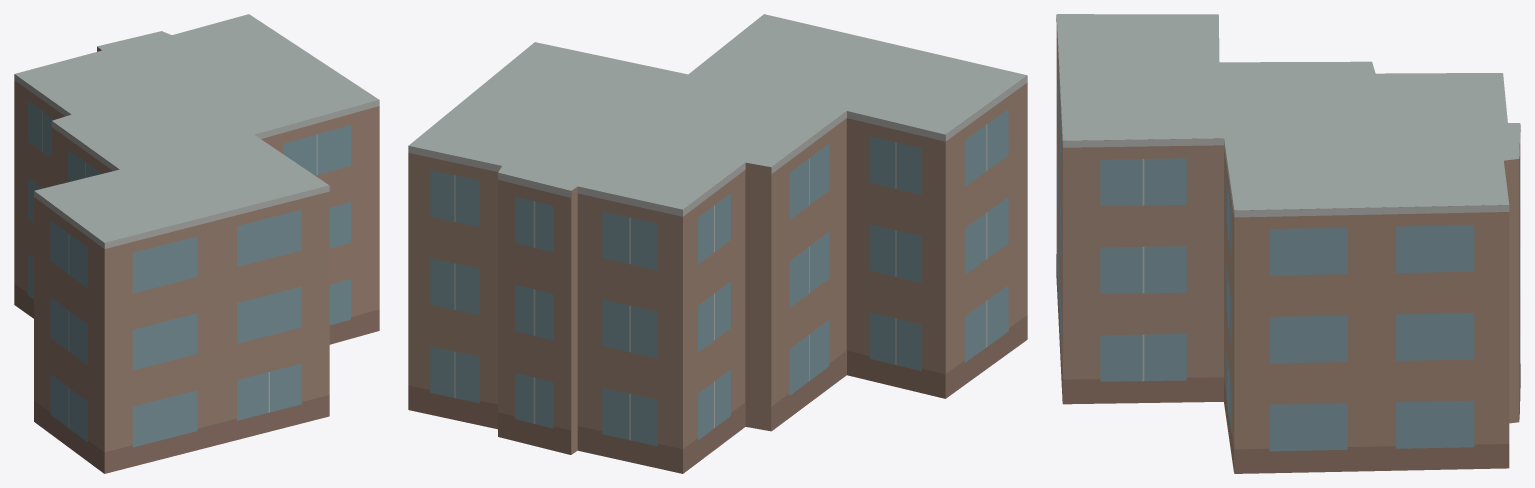
File: survey-upis-32470418.glb
3 renders of one model, left to right at view 1: azimuth 30°, elevation 25°; view 2: azimuth 150°, elevation 25°; view 3: azimuth 270°, elevation 25°, orthographic. The views are drawn at different scales.
Parts seen in each view (by area): view 1: survey-upis-32470418.tmp; view 2: survey-upis-32470418.tmp; view 3: survey-upis-32470418.tmp.
Part boxes in pixels (left/top/right/bottom): survey-upis-32470418.tmp: left=14, top=14, right=379, bottom=473; survey-upis-32470418.tmp: left=408, top=14, right=1027, bottom=473; survey-upis-32470418.tmp: left=1056, top=14, right=1520, bottom=473.
Size of the model in its own units: 14.64 by 9.15 by 14.61.
